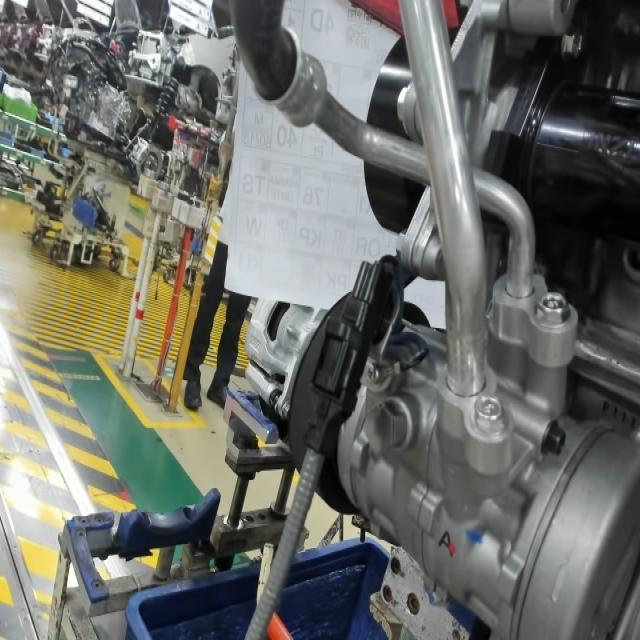Compressor-A: (433, 525, 456, 562)
